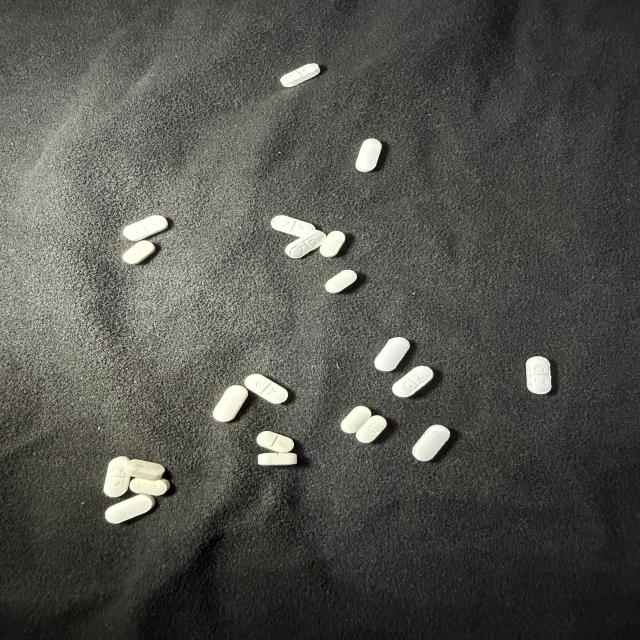pill: (105, 494, 155, 523), (413, 425, 450, 461), (213, 385, 248, 422), (392, 366, 433, 397), (245, 374, 288, 403), (375, 337, 410, 371), (285, 231, 326, 258), (123, 216, 168, 240), (104, 457, 129, 497), (271, 215, 316, 237), (280, 64, 320, 88), (526, 357, 551, 394), (356, 139, 381, 172), (341, 406, 371, 433), (356, 416, 386, 443), (125, 460, 165, 480), (122, 240, 155, 264), (257, 431, 294, 452), (325, 270, 357, 293), (130, 478, 170, 496), (320, 231, 345, 257), (258, 453, 297, 465)
